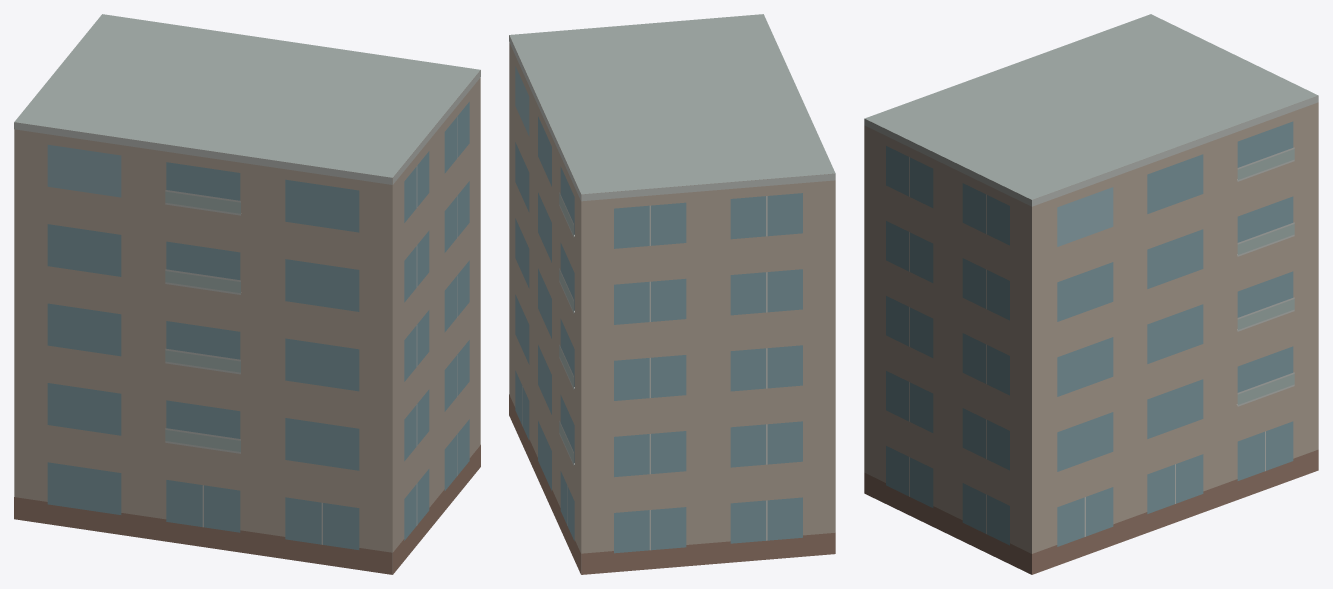
Rendered from survey-upis-32979276.glb.
The picture shows the model from 3 angles, left to right: view 1: azimuth 30°, elevation 25°; view 2: azimuth 150°, elevation 25°; view 3: azimuth 270°, elevation 25°; orthographic projection. The views are drawn at different scales.
Visible parts, largest first — view 1: survey-upis-32979276.tmp; view 2: survey-upis-32979276.tmp; view 3: survey-upis-32979276.tmp.
Boxes of the visible parts, <box> form: survey-upis-32979276.tmp: <box>14,14,480,574</box>; survey-upis-32979276.tmp: <box>509,14,835,574</box>; survey-upis-32979276.tmp: <box>864,14,1318,574</box>.
Size of the model in its own units: 14.32 by 13.45 by 14.77.
